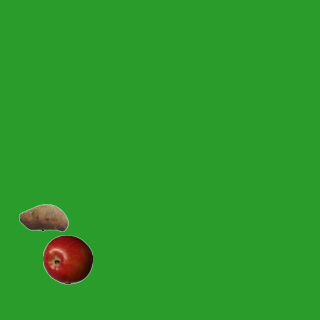Apple Braeburn: (42, 234, 92, 284)
Potato Sweet: (18, 192, 68, 242)
